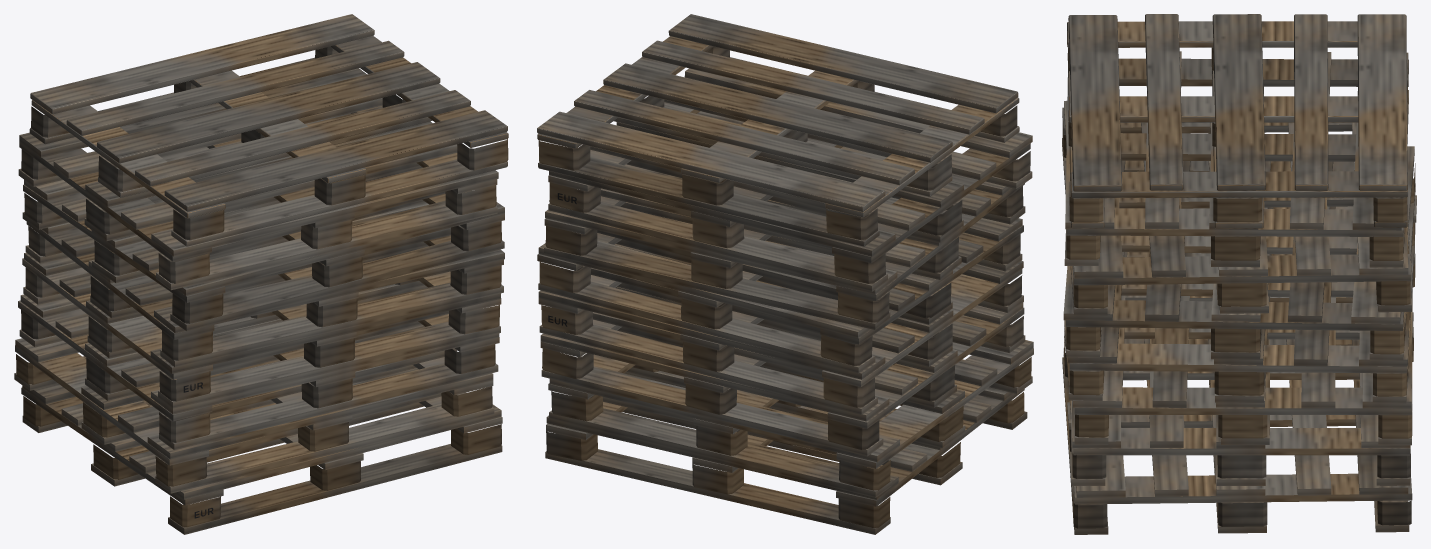
Rendered from pallet_stack.glb.
The picture shows the model from 3 angles, left to right: view 1: azimuth 30°, elevation 25°; view 2: azimuth 150°, elevation 25°; view 3: azimuth 270°, elevation 25°; orthographic projection. The views are drawn at different scales.
Parts seen in each view (by area): view 1: pallet_stack; view 2: pallet_stack; view 3: pallet_stack.
Boxes of the visible parts, left/top/right/bottom form: pallet_stack: left=14, top=14, right=508, bottom=534; pallet_stack: left=537, top=14, right=1033, bottom=534; pallet_stack: left=1062, top=14, right=1416, bottom=534.
Size of the model in its own units: 1.26 by 1.15 by 1.05.
2 materials, 2 textured.
